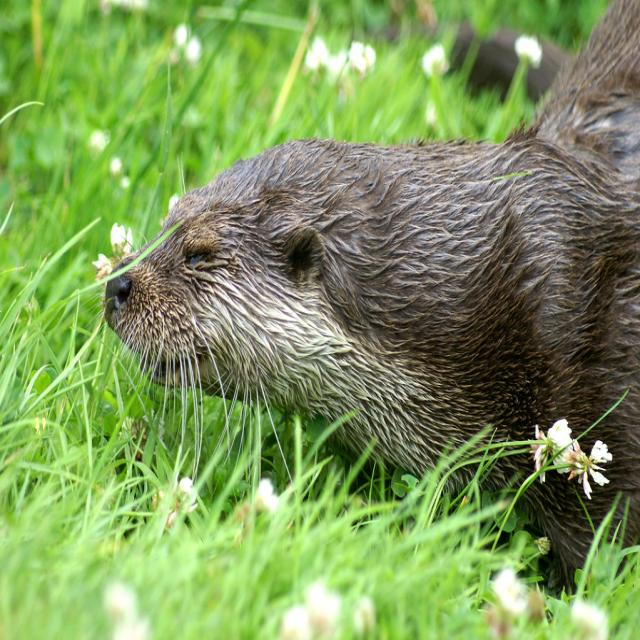otter: (103, 24, 627, 482)
